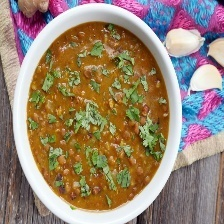sabzi: (18, 15, 173, 216)
